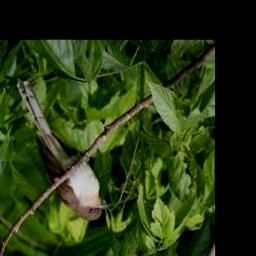Cuckoo: (15, 79, 107, 221)
